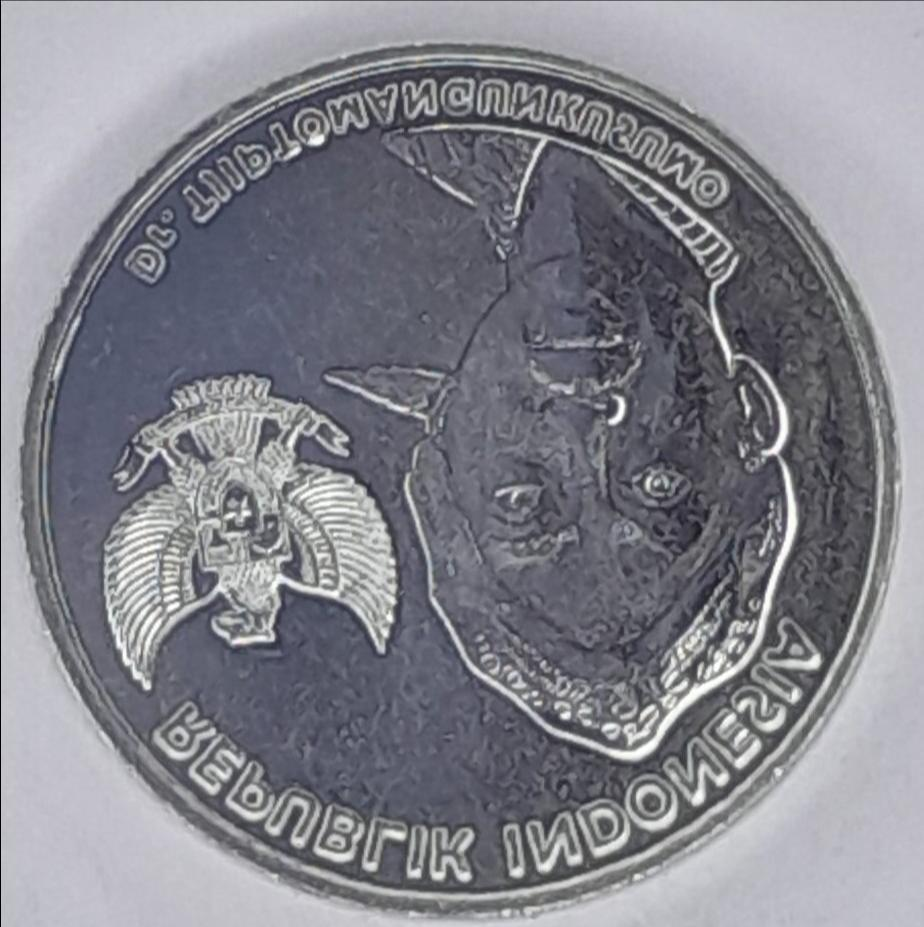coin_200_e2016: (0, 16, 924, 927)
